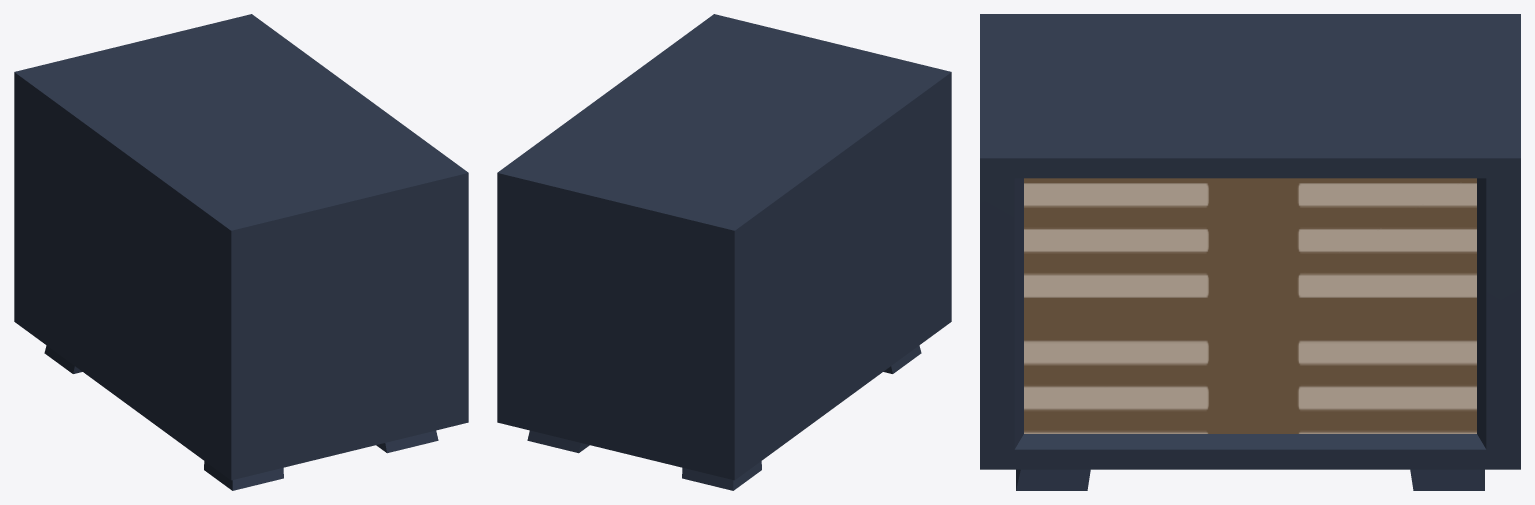
The model's file is Radio.obj.
The picture shows the model from 3 angles, left to right: view 1: azimuth 30°, elevation 25°; view 2: azimuth 150°, elevation 25°; view 3: azimuth 270°, elevation 25°; orthographic projection. The views are drawn at different scales.
Visible parts, largest first — view 1: Radio_0, Radio_2; view 2: Radio_0, Radio_2; view 3: Radio_0, Radio_1.
Boxes of the visible parts, x1,y1,x2,y2 form: Radio_0: (14, 14, 468, 490); Radio_2: (231, 174, 468, 480); Radio_0: (497, 14, 951, 490); Radio_2: (497, 174, 734, 480); Radio_0: (980, 14, 1520, 490); Radio_1: (1024, 178, 1476, 433).
Bounding box in the file's own units: 0.3691 × 0.4074 × 0.5836.
2 materials, 1 textured.
